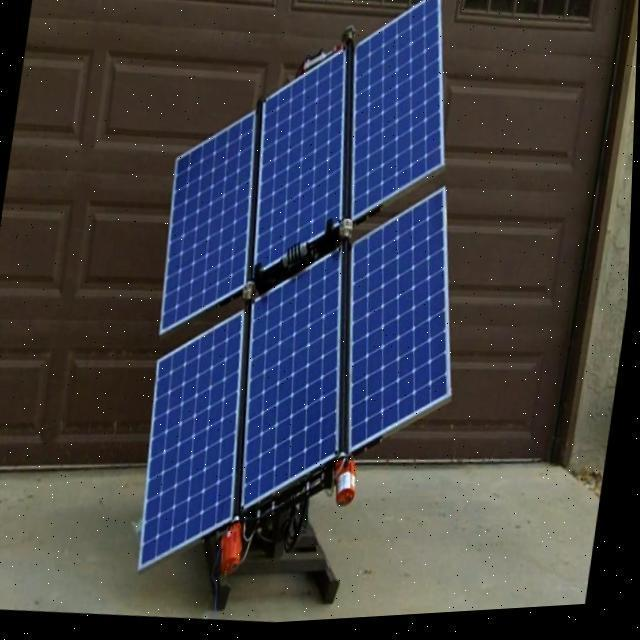Normal Solar Panel: (330, 182, 482, 468), (229, 248, 368, 522), (135, 307, 265, 582), (333, 0, 469, 234), (245, 48, 366, 278), (155, 107, 271, 346)
